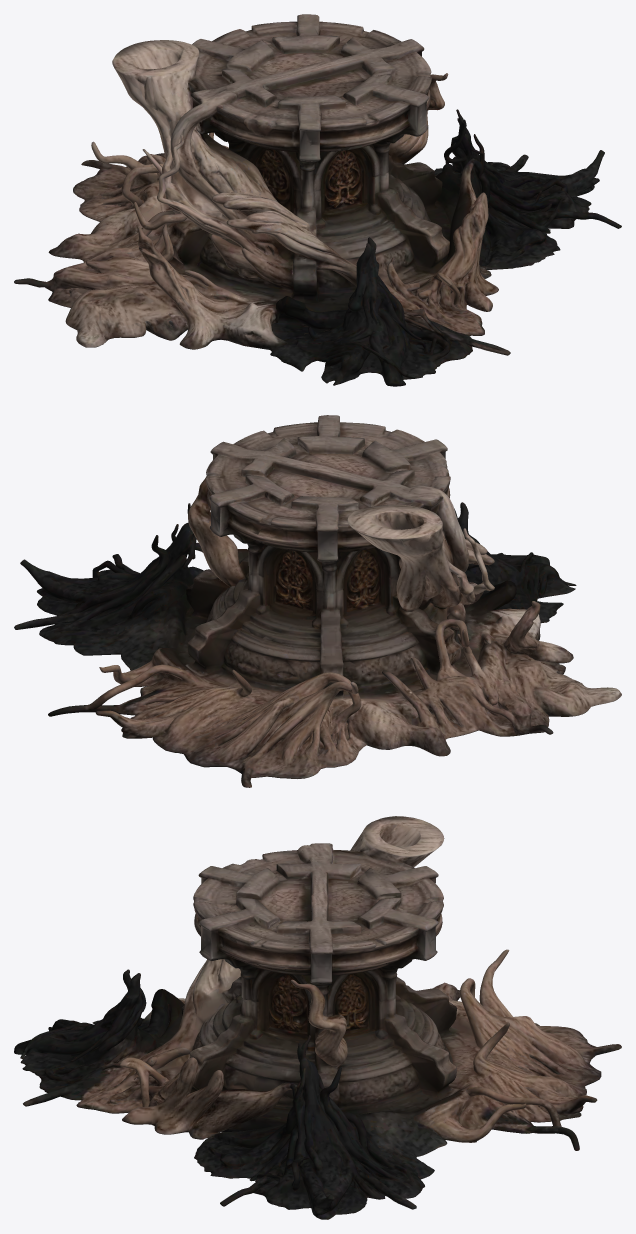
The picture shows the model from 3 angles, top to bottom: view 1: azimuth 30°, elevation 25°; view 2: azimuth 150°, elevation 25°; view 3: azimuth 270°, elevation 25°; orthographic projection.
Parts seen in each view (by area): view 1: material; view 2: material; view 3: material.
Boxes of the visible parts, x1,y1,x2,y2 form: material: [14, 14, 621, 386]; material: [14, 415, 621, 787]; material: [14, 816, 621, 1219].
Bounding box in the file's own units: 1.12 × 0.3739 × 1.06.
1 material, 1 textured.
